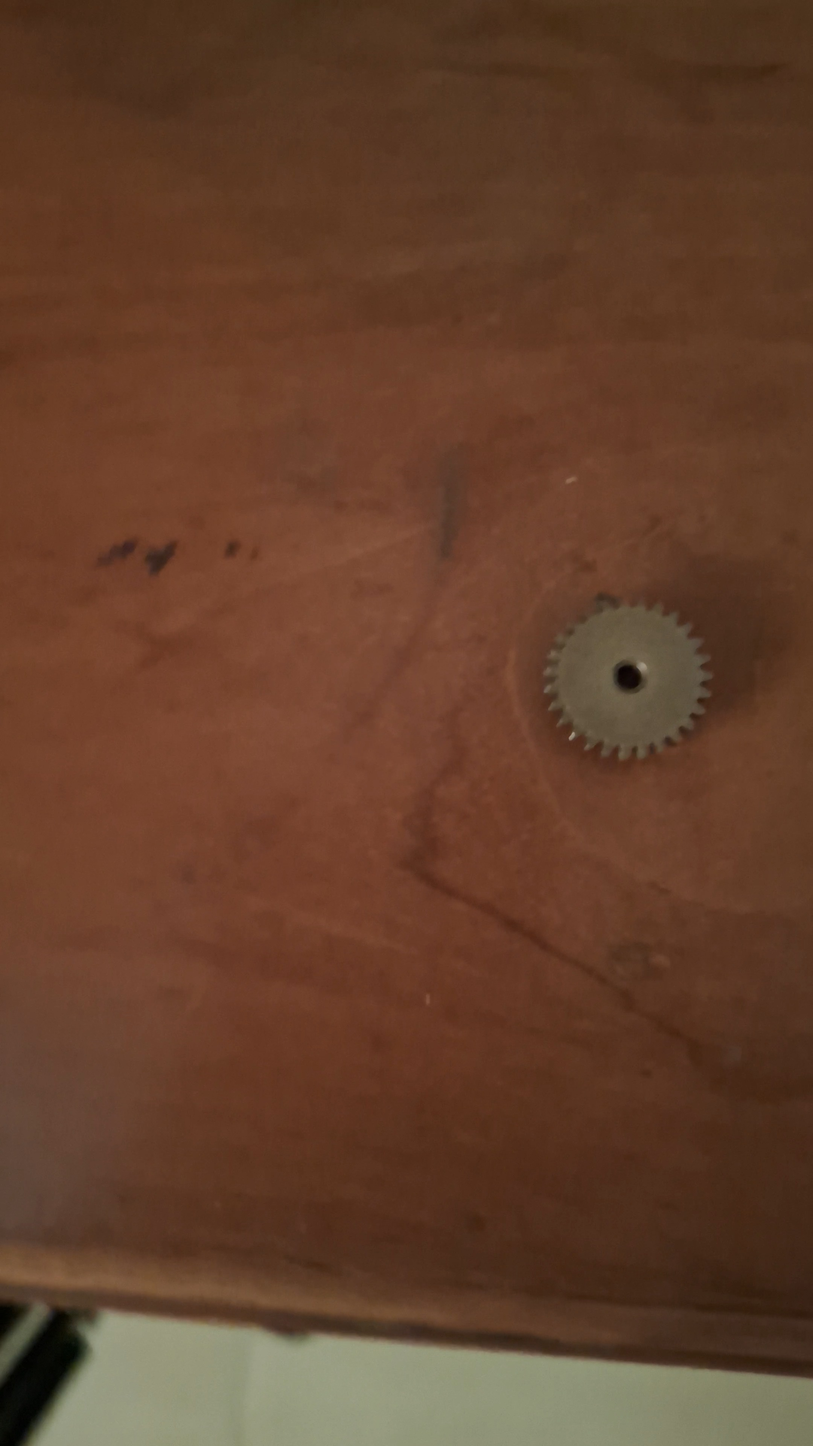spur gear: (545, 599, 711, 759)
